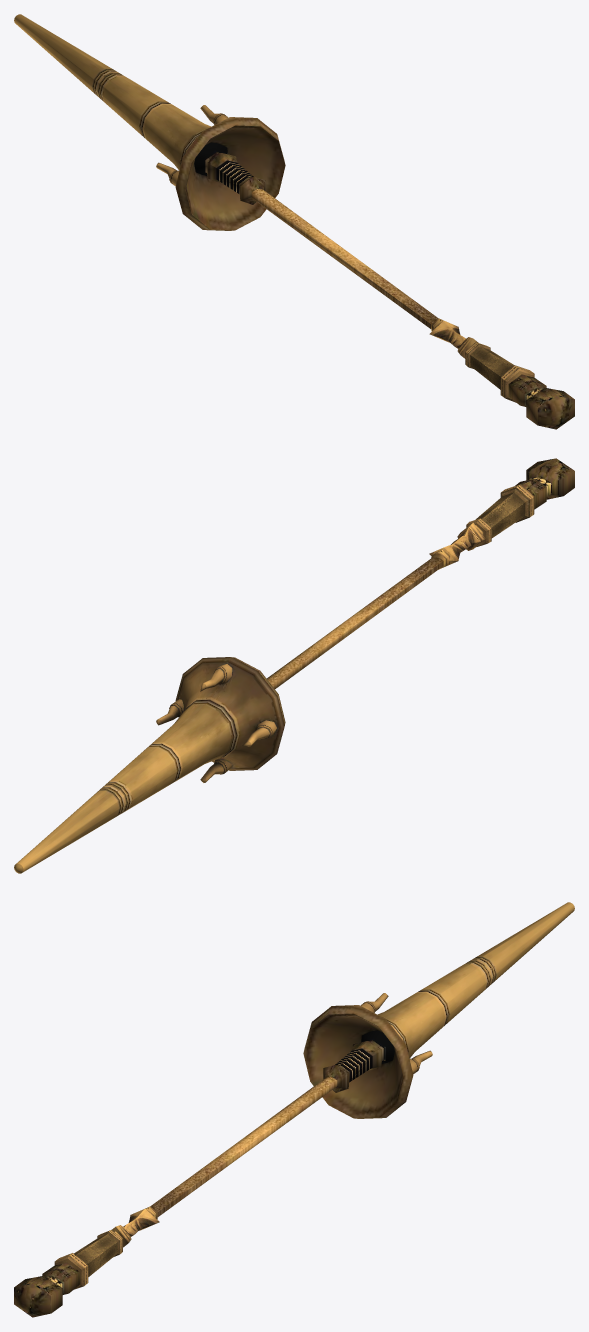
File: spear_knight_spear_knight_spear_gacha1.glb
3 renders of one model, top to bottom at view 1: azimuth 30°, elevation 25°; view 2: azimuth 150°, elevation 25°; view 3: azimuth 330°, elevation 25°, orthographic.
Size of the model in its own units: 0.3313 by 0.3313 by 2.86.
1 material, 1 textured.
